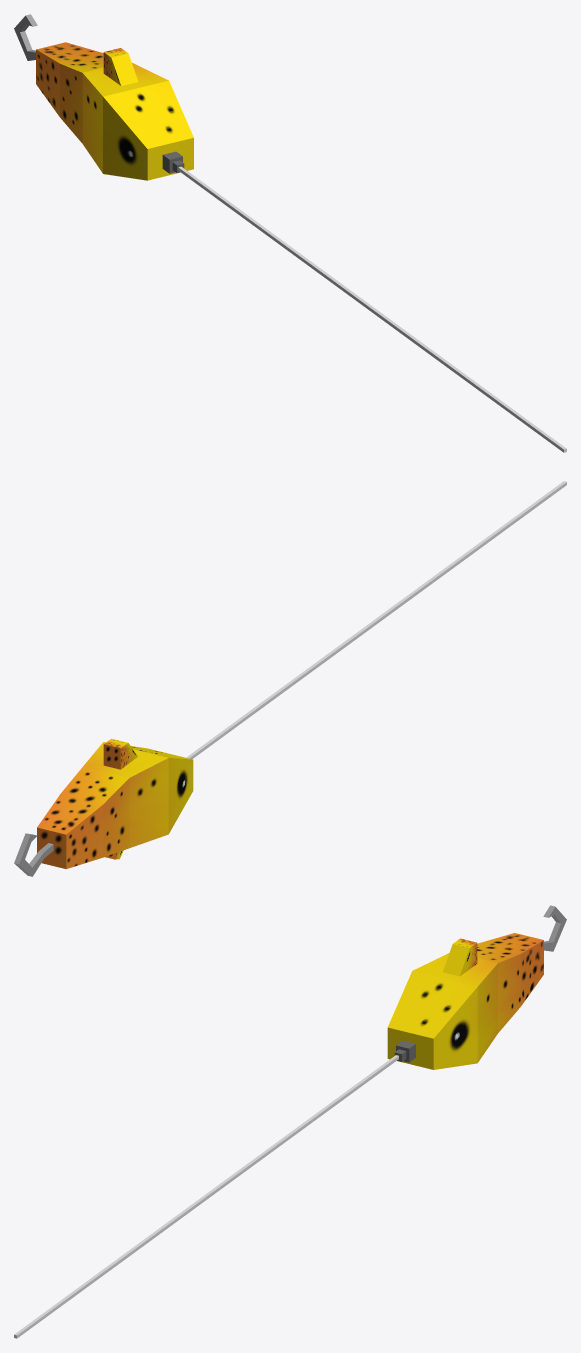
The model's file is Hook.fbx.
The picture shows the model from 3 angles, top to bottom: view 1: azimuth 30°, elevation 25°; view 2: azimuth 150°, elevation 25°; view 3: azimuth 330°, elevation 25°; orthographic projection.
Visible parts, largest first — view 1: Cube.005, Cube.004, Cube.001; view 2: Cube.005, Cube.004, Cube.001; view 3: Cube.005, Cube.004, Cube.001.
Part boxes in pixels (x1=…): Cube.005: x1=36, y1=42, x2=193, y2=180; Cube.004: x1=178, y1=166, x2=566, y2=452; Cube.001: x1=14, y1=14, x2=37, y2=60; Cube.005: x1=37, y1=738, x2=193, y2=869; Cube.004: x1=186, y1=481, x2=566, y2=759; Cube.001: x1=14, y1=833, x2=53, y2=876; Cube.005: x1=387, y1=933, x2=543, y2=1069; Cube.004: x1=14, y1=1055, x2=398, y2=1338; Cube.001: x1=543, y1=905, x2=566, y2=951.
Bounding box in the file's own units: 24.12 × 38.86 × 349.
Materials: 4 (1 with a texture image).
